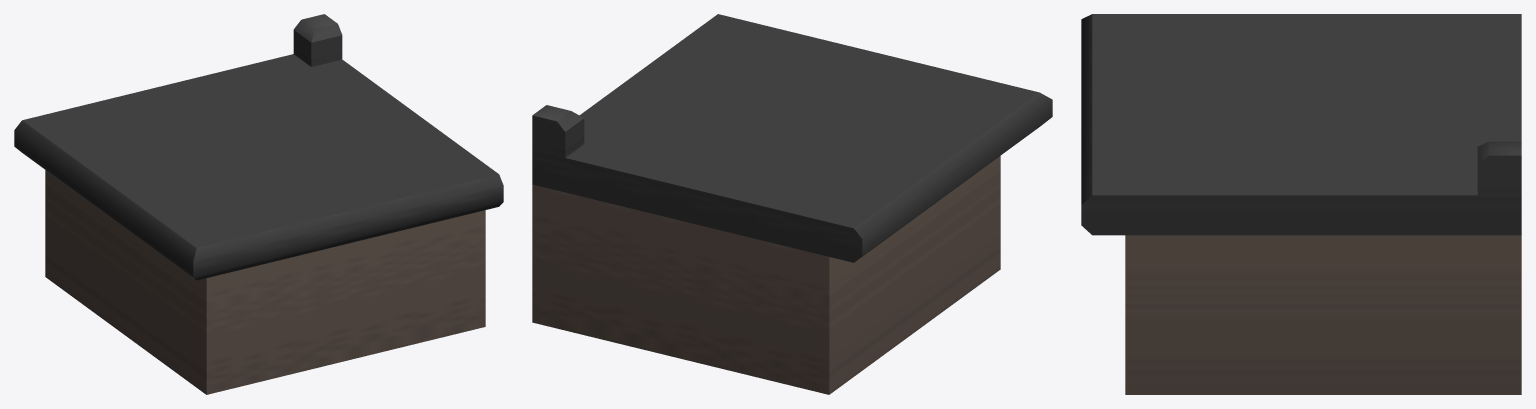
Rendered from kitchencounter_outercorner_backsplash_styleB.gltf.
3 views of the same model, side by side, from view 1: azimuth 30°, elevation 25°; view 2: azimuth 150°, elevation 25°; view 3: azimuth 270°, elevation 25° (orthographic). The views are drawn at different scales.
Visible parts, largest first — view 1: kitchencounter_outercorner_backsplash_styleB; view 2: kitchencounter_outercorner_backsplash_styleB; view 3: kitchencounter_outercorner_backsplash_styleB.
Boxes of the visible parts, x1,y1,x2,y2 form: kitchencounter_outercorner_backsplash_styleB: (14,14,503,394); kitchencounter_outercorner_backsplash_styleB: (532,14,1052,394); kitchencounter_outercorner_backsplash_styleB: (1081,14,1521,394).
Bounding box in the file's own units: 2 × 1.2 × 2.
Materials: 1 (1 with a texture image).
